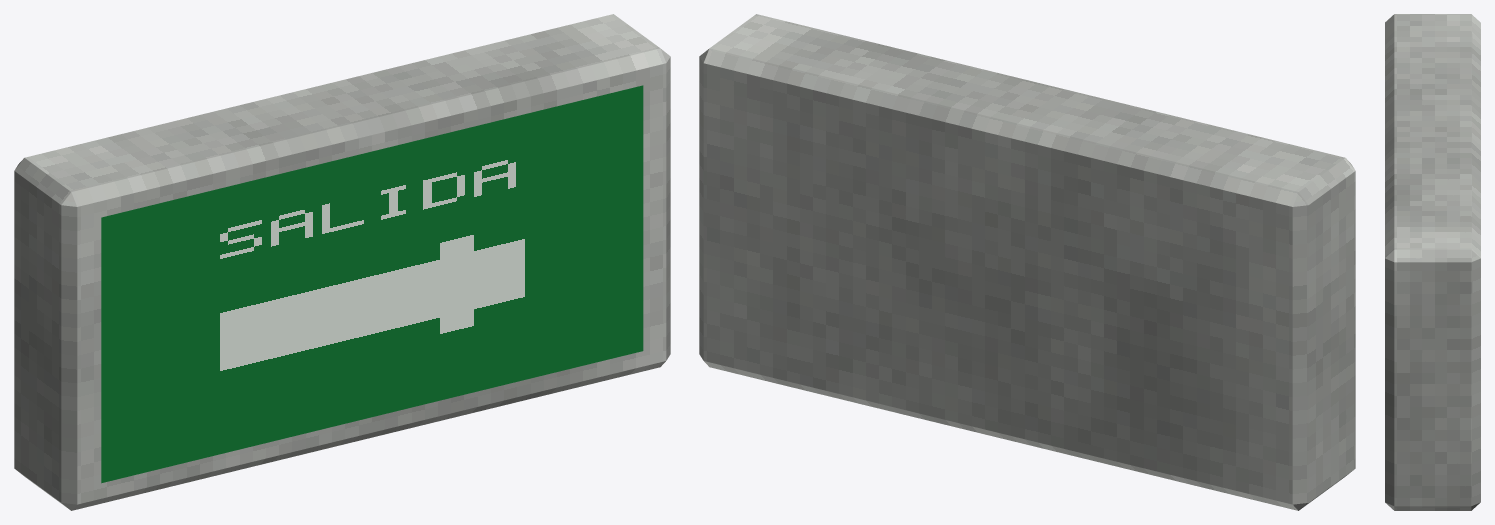
The model's file is Lab_ExitSign.fbx.
The picture shows the model from 3 angles, left to right: view 1: azimuth 30°, elevation 25°; view 2: azimuth 150°, elevation 25°; view 3: azimuth 270°, elevation 25°; orthographic projection. The views are drawn at different scales.
Visible parts, largest first — view 1: Lab_ExitSign; view 2: Lab_ExitSign; view 3: Lab_ExitSign.
Part boxes in pixels (x1,y1,x2,y2): Lab_ExitSign: (14,14,670,510); Lab_ExitSign: (699,14,1355,510); Lab_ExitSign: (1385,14,1480,510).
Bounding box in the file's own units: 0.36 × 0.18 × 0.0605.
